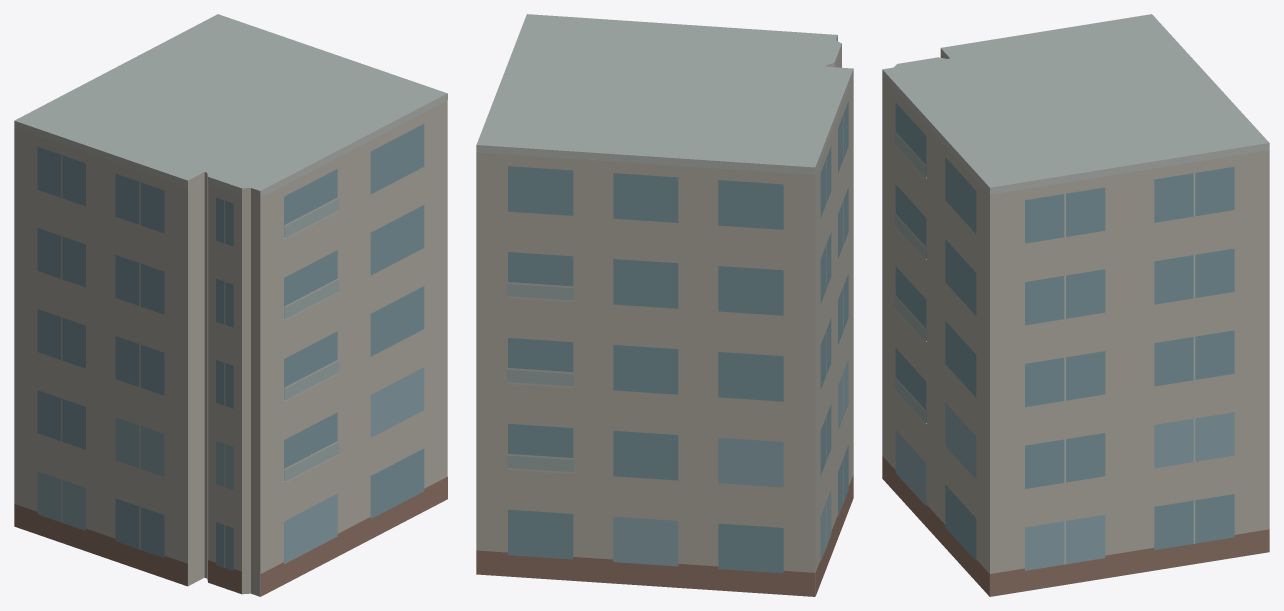
The model's file is survey-upis-32617594.glb.
The picture shows the model from 3 angles, left to right: view 1: azimuth 30°, elevation 25°; view 2: azimuth 150°, elevation 25°; view 3: azimuth 270°, elevation 25°; orthographic projection. The views are drawn at different scales.
Parts seen in each view (by area): view 1: survey-upis-32617594.tmp; view 2: survey-upis-32617594.tmp; view 3: survey-upis-32617594.tmp.
Part boxes in pixels (x1,y1,x2,y2): survey-upis-32617594.tmp: (14,14,447,596); survey-upis-32617594.tmp: (476,14,853,596); survey-upis-32617594.tmp: (882,14,1269,596).
Bounding box in the file's own units: 12.76 × 14 × 12.02.
